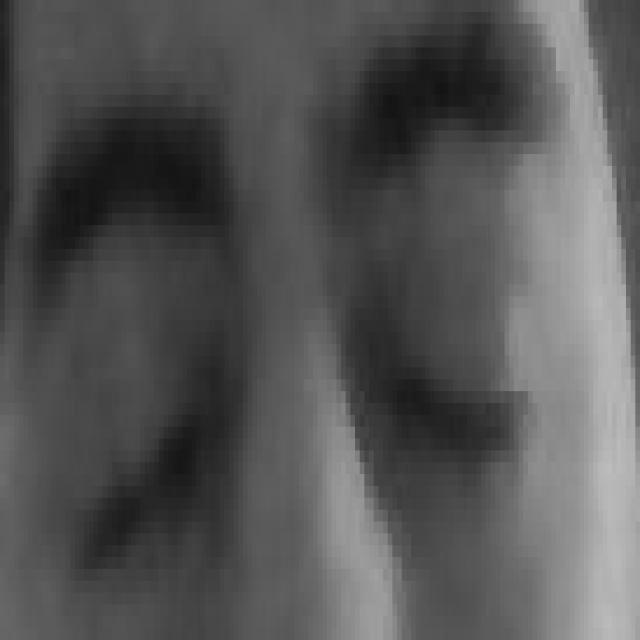real: (34, 192, 562, 600)
